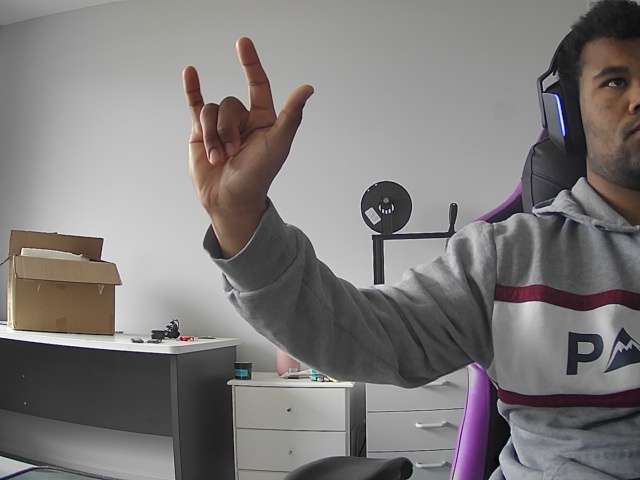ILoveYou: (160, 23, 317, 245)
